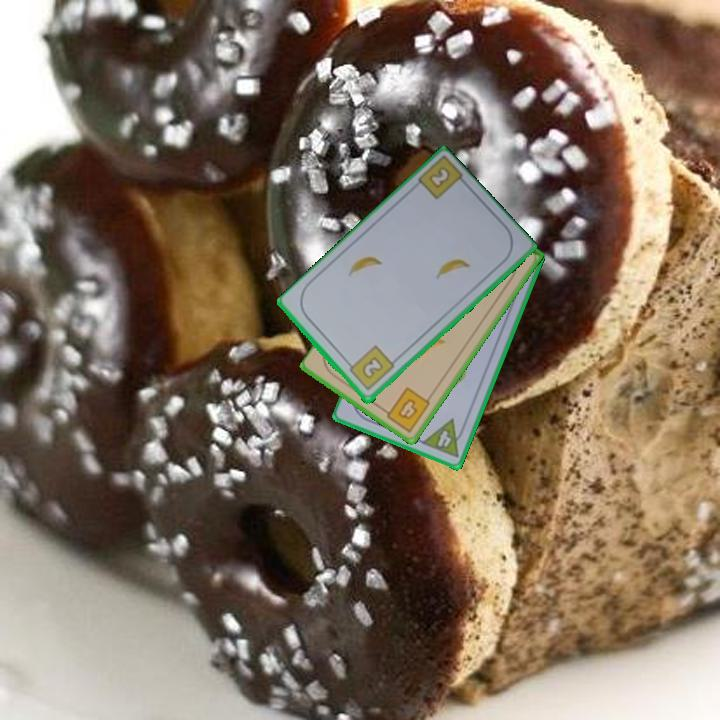2b: (343, 342, 397, 394), (425, 163, 453, 192)
4b: (379, 383, 433, 435)
4p: (418, 416, 469, 460)
